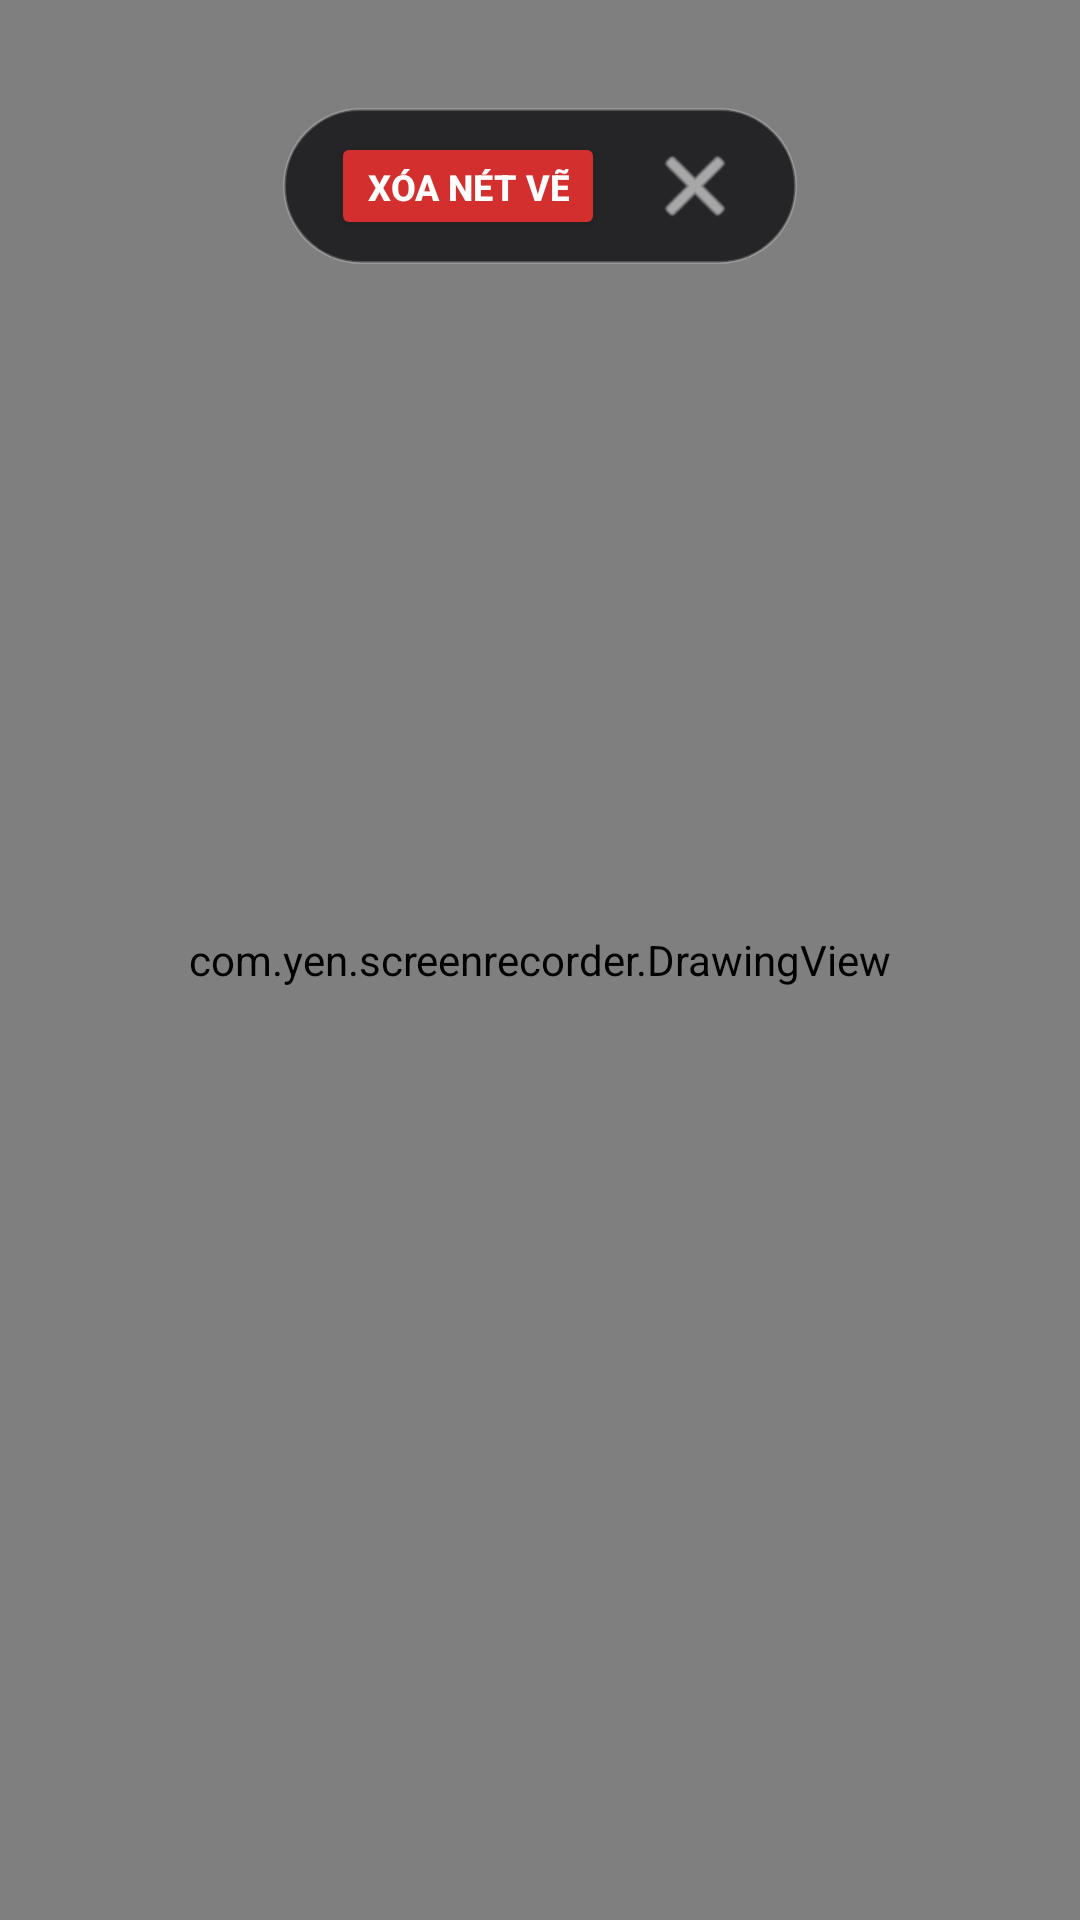

Named icons in this screenshot (1080px x 1920px) and their bounding boxes, (x1, y1, x2, y2):
Đóng cọ vẽ: (665, 156, 725, 216)
